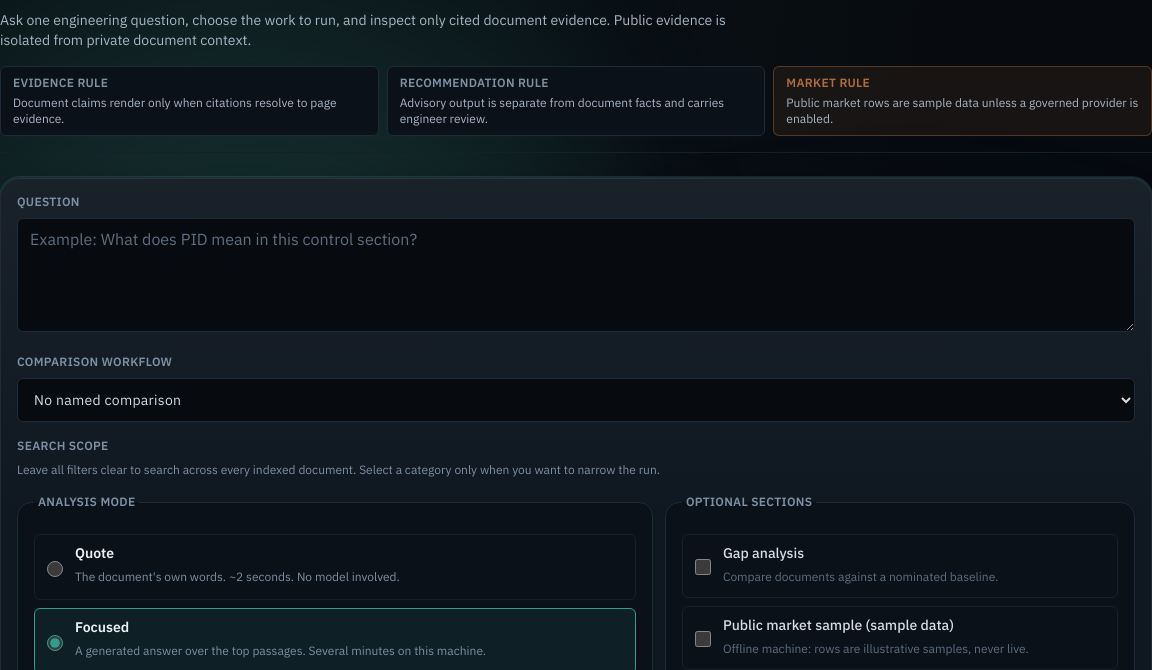
Test: #633: a document the question named but the answer could not read › says nothing when every named document was read
Type "what is the pressure floor" into the text box labelled "Question" at point(576, 275), box left=17, top=218, right=1135, bottom=332
(page scrolled)
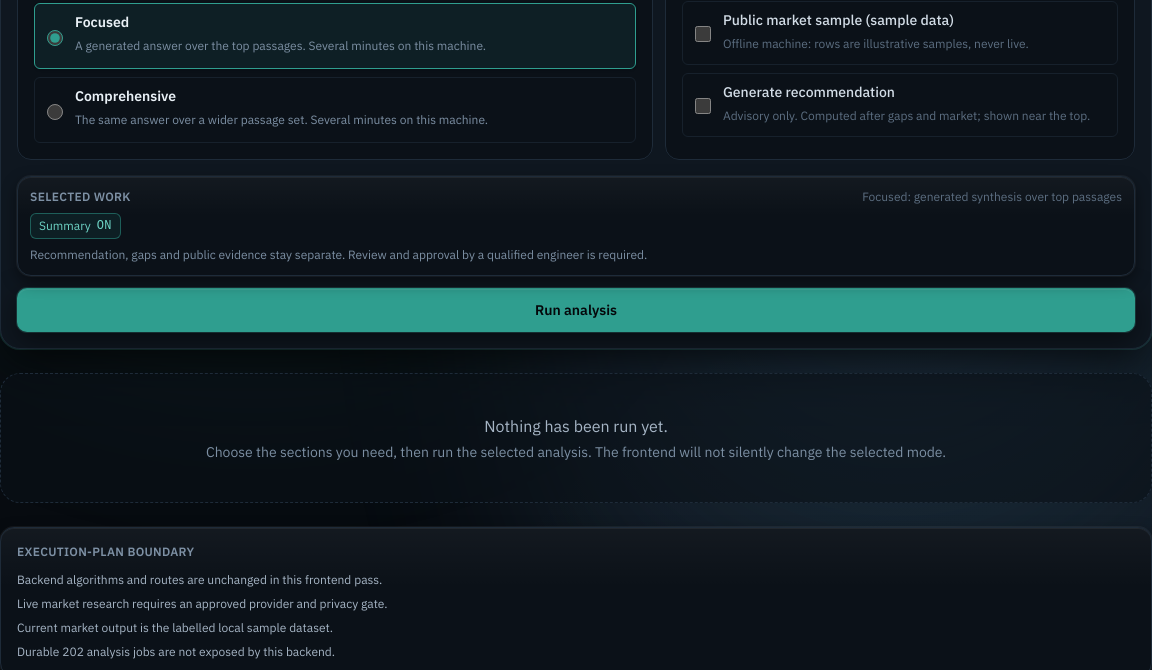
Click the button "Run analysis" at point(576, 310), box left=17, top=288, right=1135, bottom=332
(page scrolled)
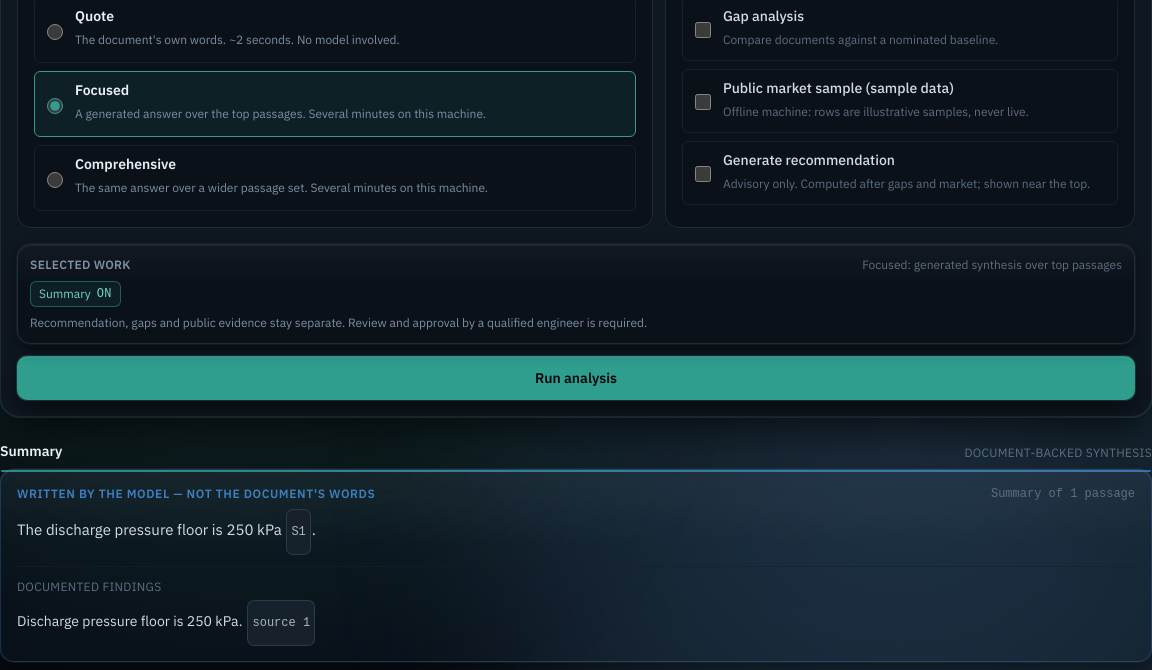
Now the text "The discharge pressure floor is 250 kPa S1 ." is shown, box left=17, top=510, right=316, bottom=554
